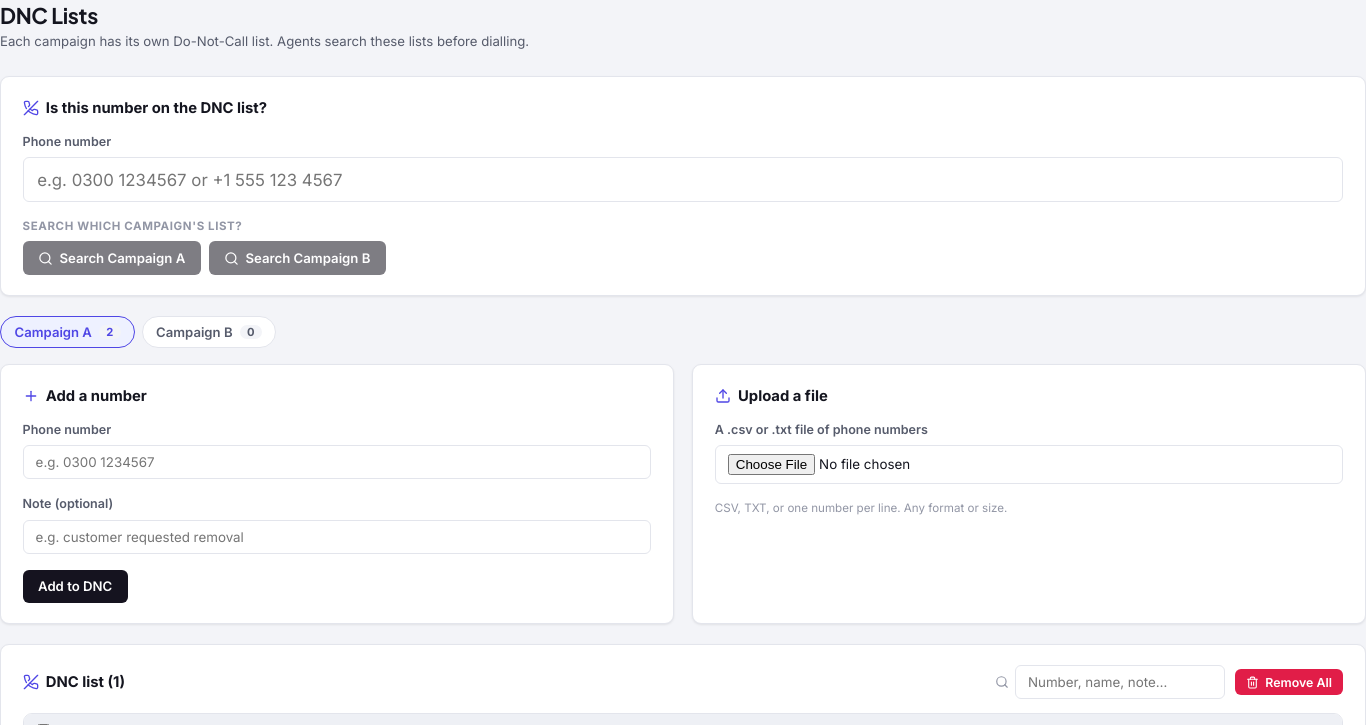
DncManagement › shows the server's reason when a number cannot be added (e.g. already listed)
Type "03001112222" into the field labelled "Phone number" below "Add a number".
click(337, 462); type("03001112222")  # box [23,445,651,479]
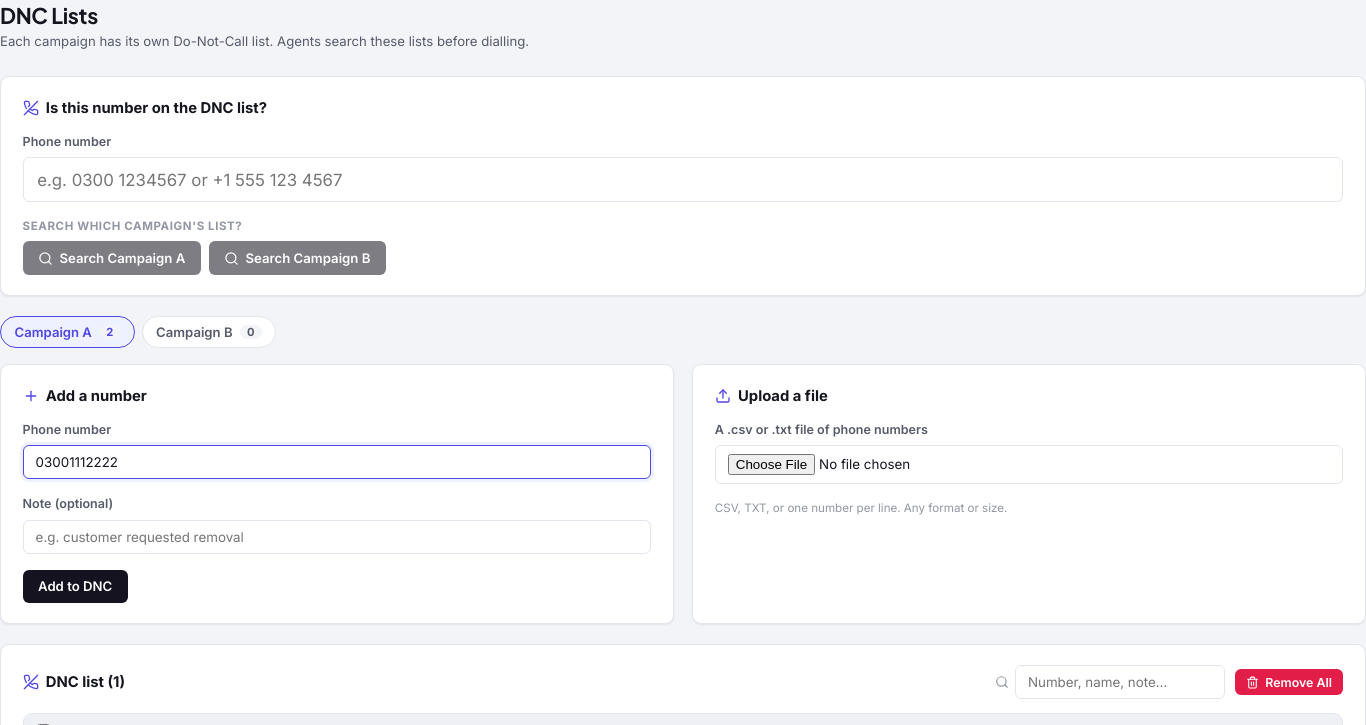
Click the button "Add to DNC".
click(75, 586)  # box [23,570,128,603]
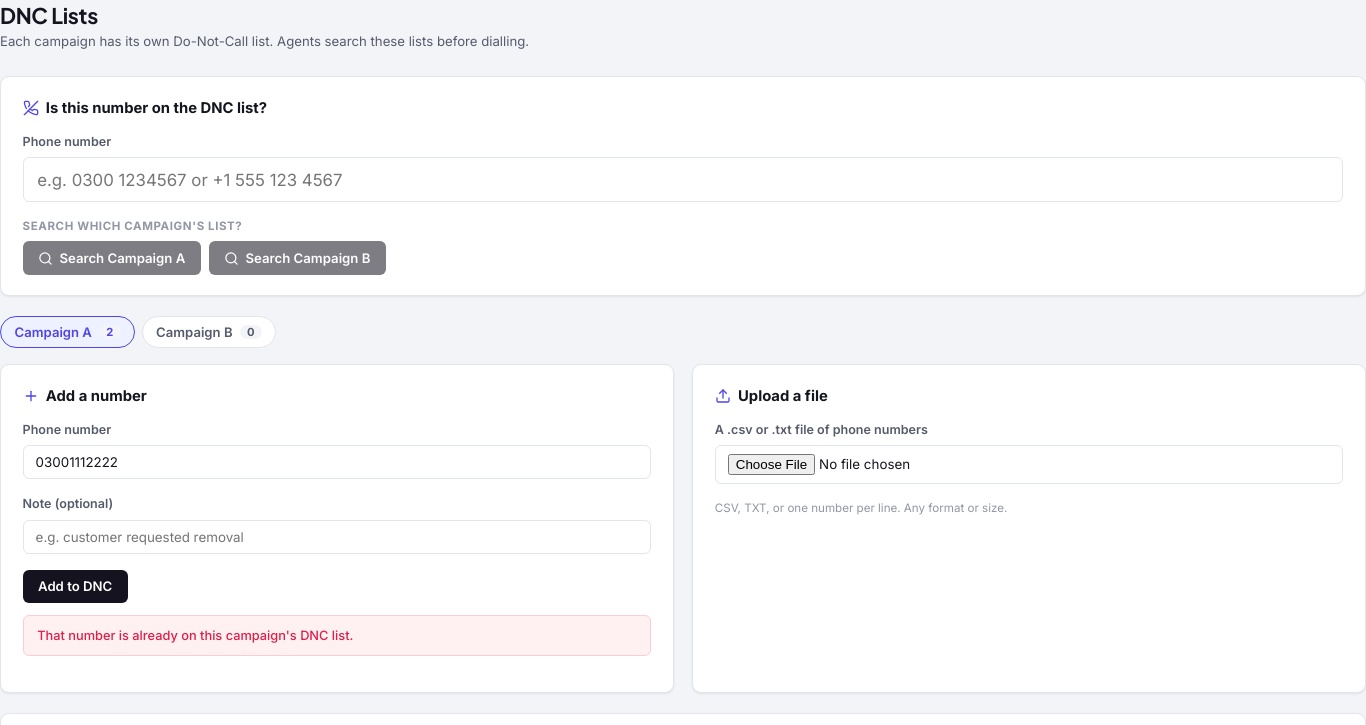
Result: the text "That number is already on this campaign's DNC list." is shown at [23,615,651,656]
